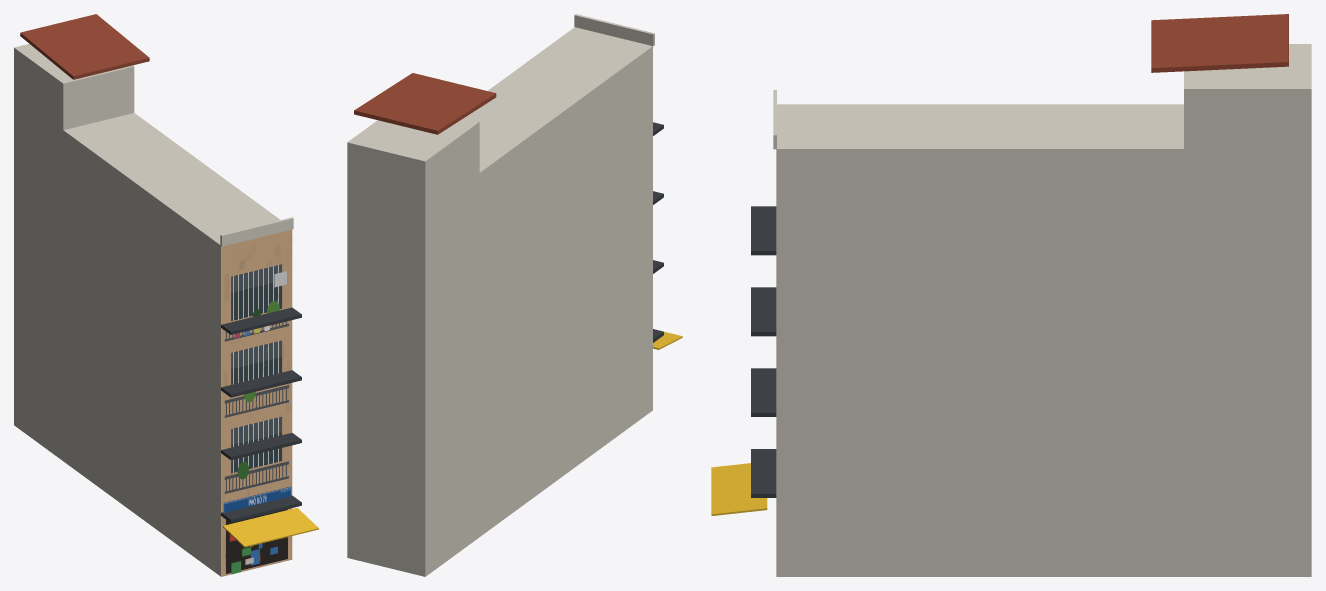
The model's file is tube_house_e.glb.
3 renders of one model, left to right at view 1: azimuth 30°, elevation 25°; view 2: azimuth 150°, elevation 25°; view 3: azimuth 270°, elevation 25°, orthographic. The views are drawn at different scales.
Parts seen in each view (by area): view 1: tubehouse; view 2: tubehouse; view 3: tubehouse.
Boxes of the visible parts, left/top/right/bottom form: tubehouse: left=14, top=14, right=318, bottom=576; tubehouse: left=347, top=14, right=682, bottom=576; tubehouse: left=711, top=14, right=1311, bottom=576.
Size of the model in its own units: 4.45 by 22.33 by 23.51.
6 materials, 2 textured.
